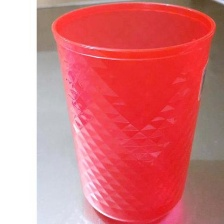glass: (36, 0, 217, 224)
